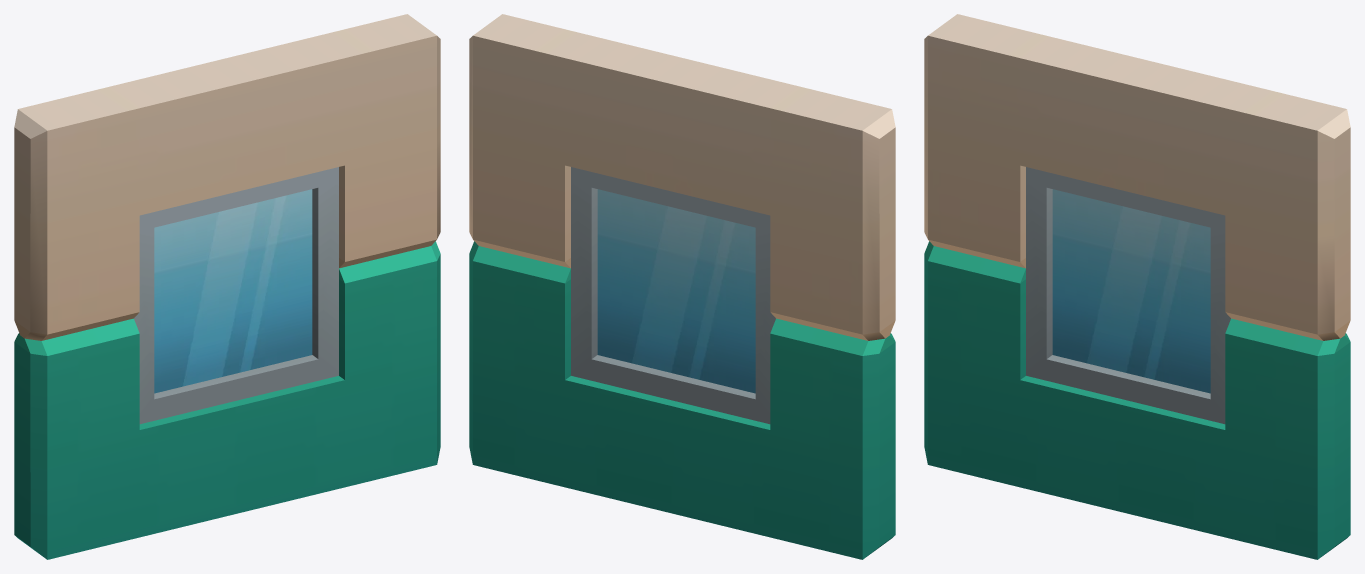
File: kaykit-wall-window.glb
3 renders of one model, left to right at view 1: azimuth 30°, elevation 25°; view 2: azimuth 150°, elevation 25°; view 3: azimuth 330°, elevation 25°, orthographic.
Visible parts, largest first — view 1: wall_window_closed; view 2: wall_window_closed; view 3: wall_window_closed.
Boxes of the visible parts, x1,y1,x2,y2 form: wall_window_closed: (14,14,440,559); wall_window_closed: (469,14,895,559); wall_window_closed: (924,14,1350,559).
Size of the model in its own units: 4 by 4 by 0.5.
Materials: 1 (1 with a texture image).
